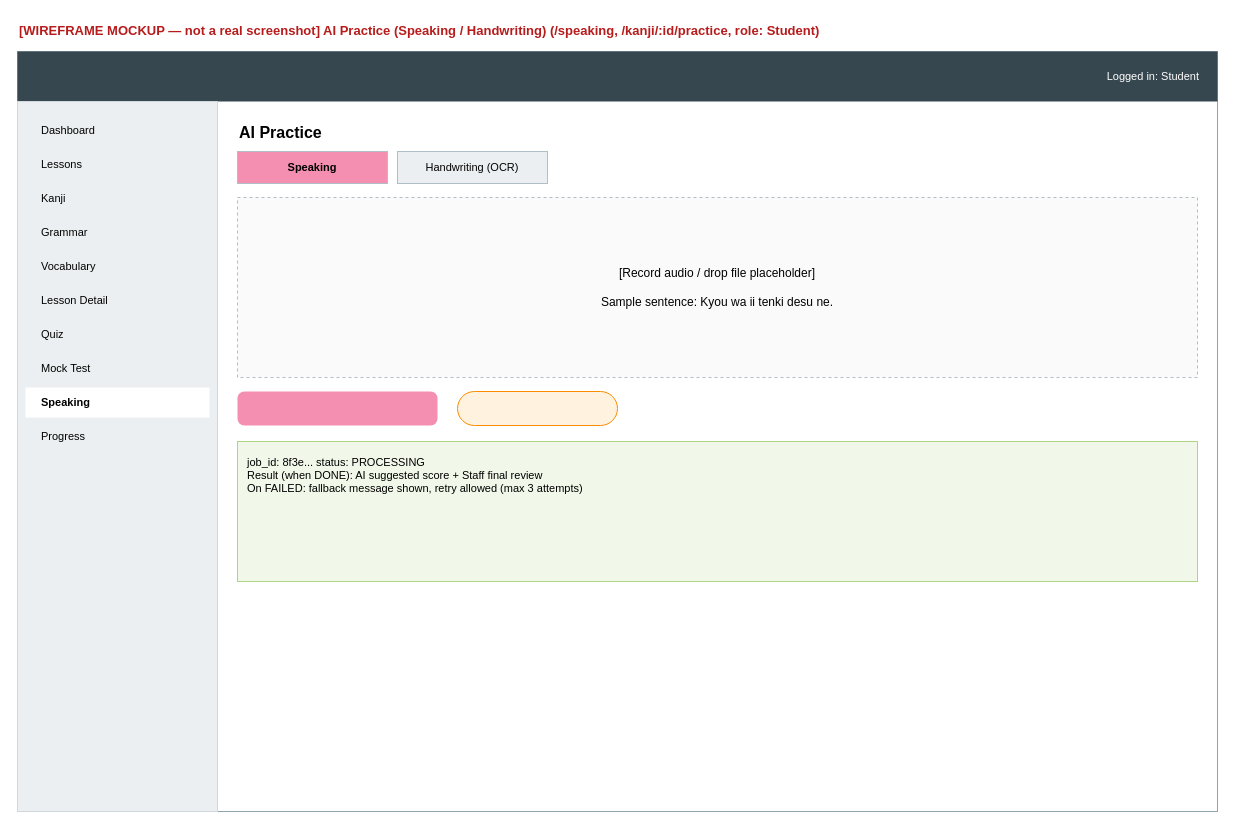
This 1235x829 diagram has some shape labels left out. Here are the shapes that lost their labels. From the top down, the box of each, then its label:
(17, 51, 1217, 101): SakuJi — Student area
(237, 391, 437, 425): Submit for AI Grading
(456, 390, 618, 426): AI status: PROCESSING
